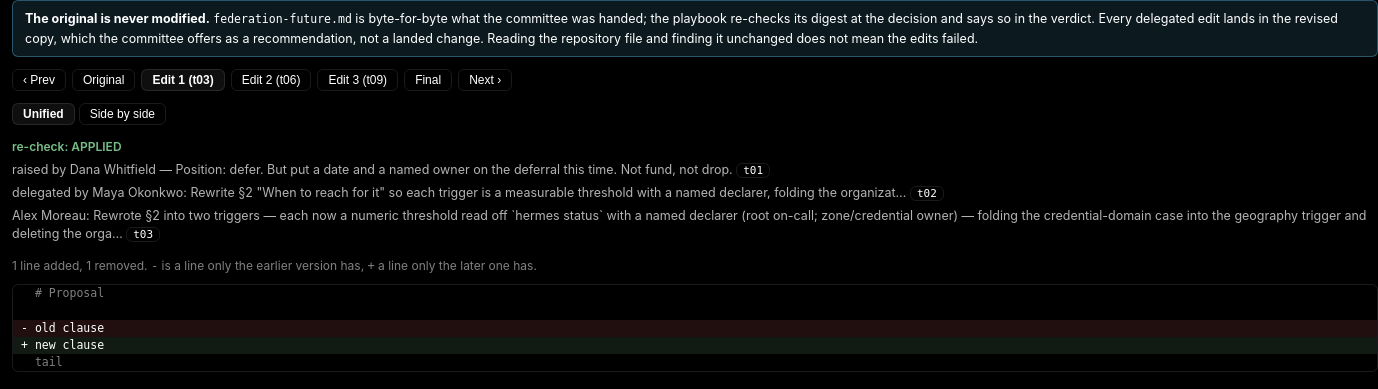
DocumentHistory › caches by path and size, and fetches a version again when its size changes
The width and height of the screenshot is (1378, 389).
Expected: the element with test id "diff-rows" is shown, [12, 284, 1377, 372]
Click the button "Original": (104, 80) [72, 69, 135, 91]
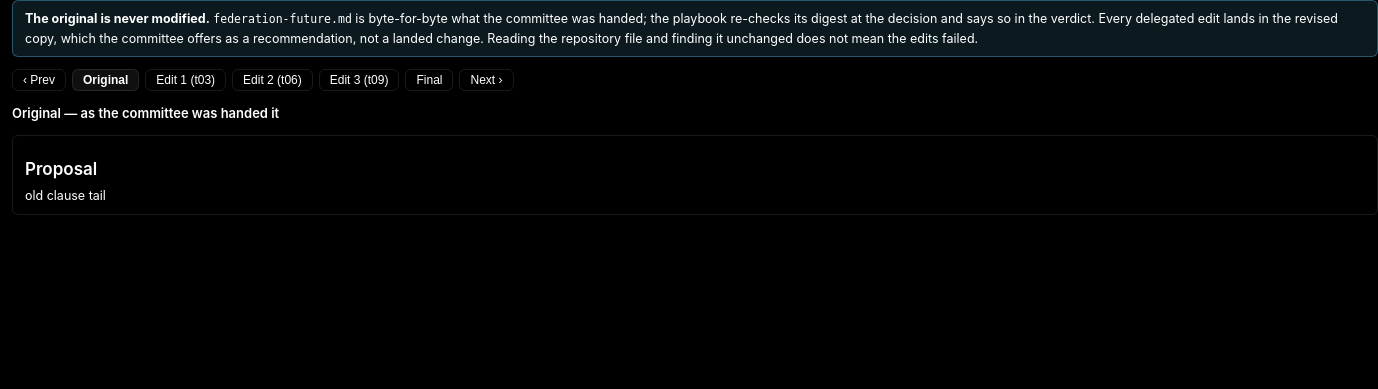
Click the button with test id "step-3": (186, 80) [145, 69, 226, 91]
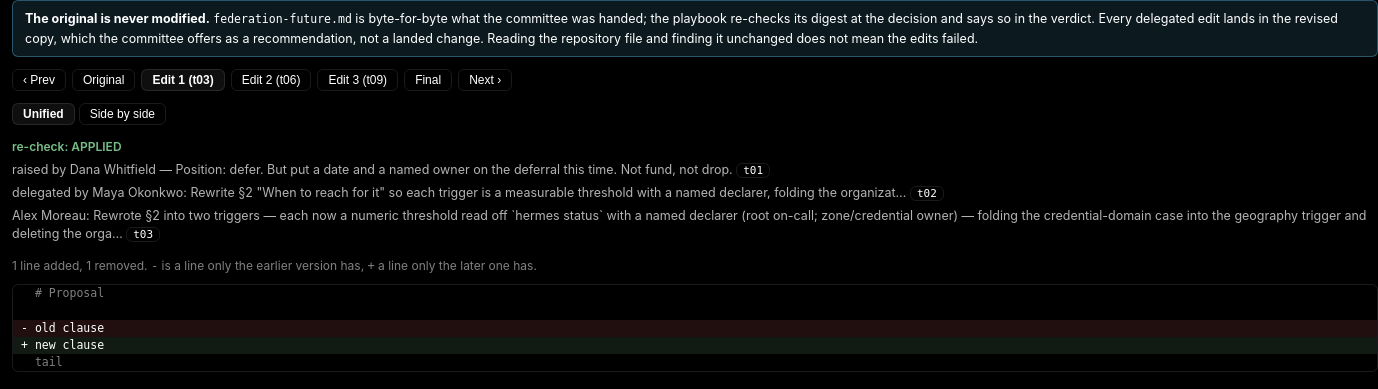
Result: the element with test id "diff-rows" is shown at [12, 284, 1377, 372]
